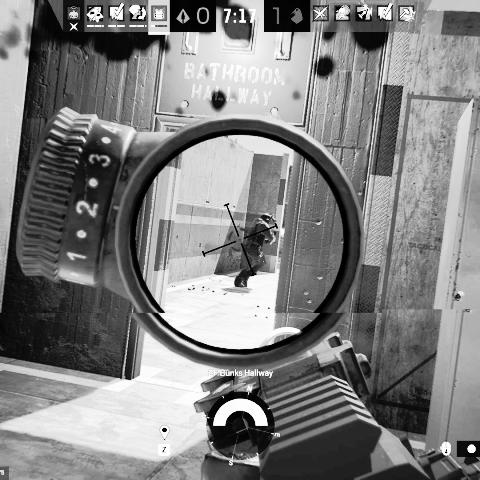Character: (233, 212, 279, 290)
Head: (258, 212, 272, 224)
